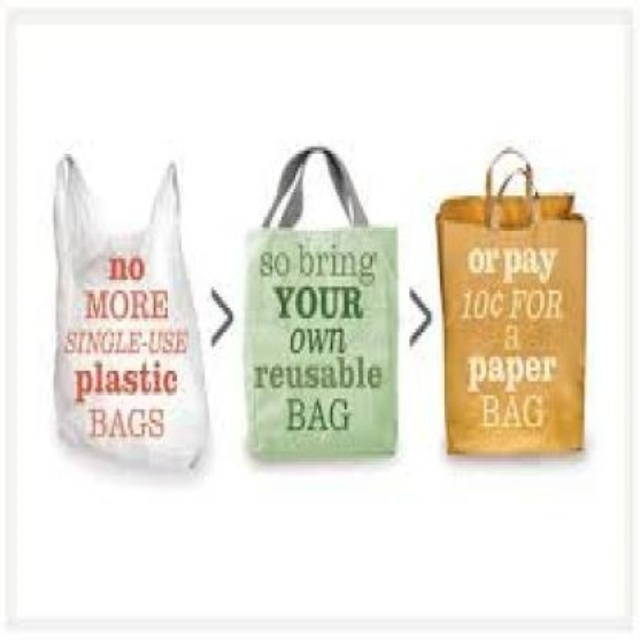trash: (54, 155, 206, 468), (246, 146, 395, 458), (437, 148, 585, 454)
